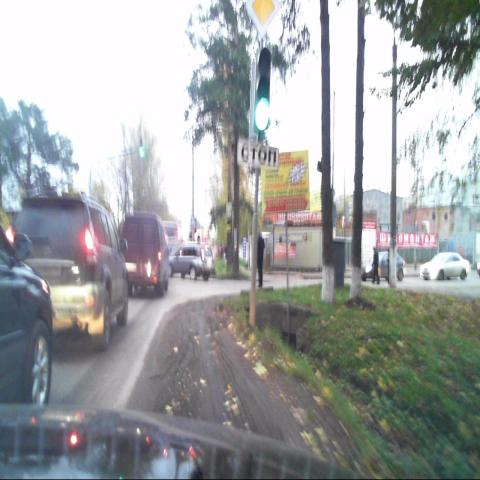6_16: (237, 140, 279, 170)
